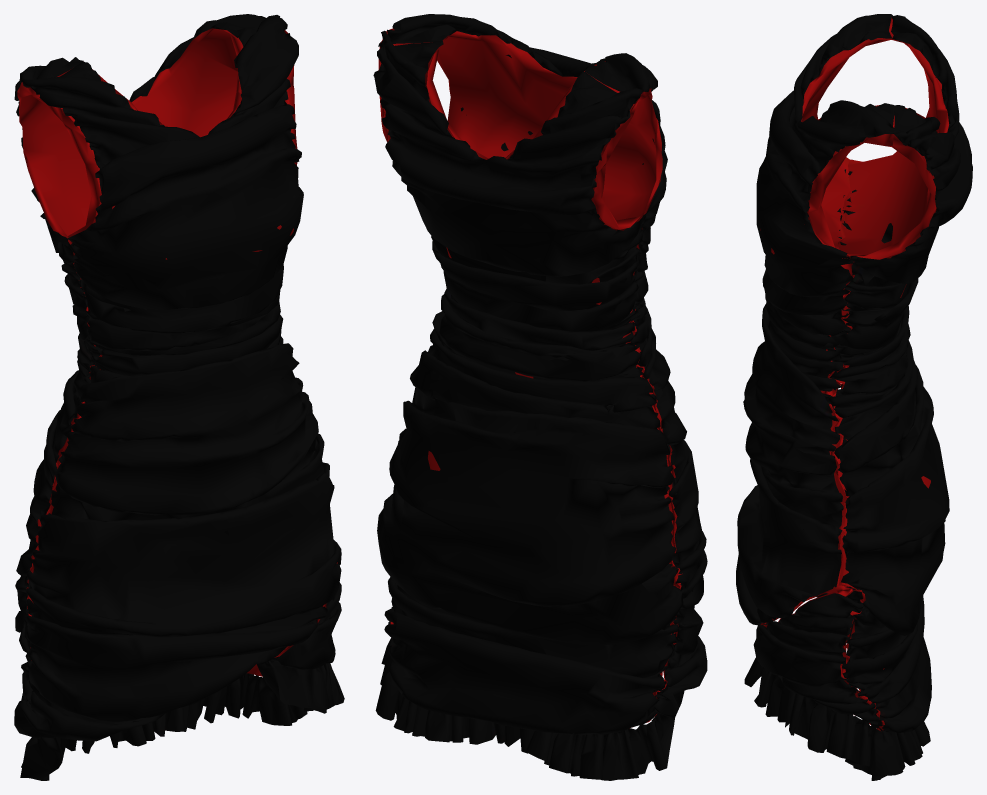
The model's file is dress_red.glb.
3 renders of one model, left to right at view 1: azimuth 30°, elevation 25°; view 2: azimuth 150°, elevation 25°; view 3: azimuth 270°, elevation 25°, orthographic. The views are drawn at different scales.
Visible parts, largest first — view 1: Cloth; view 2: Cloth; view 3: Cloth.
Boxes of the visible parts, x1,y1,x2,y2 form: Cloth: (14, 14, 344, 780); Cloth: (373, 14, 707, 780); Cloth: (736, 14, 972, 780).
Size of the model in its own units: 41.67 by 91.11 by 29.72.
Materials: 1 (1 with a texture image).
